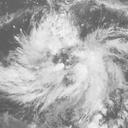cyclone: (16, 12, 110, 104)
